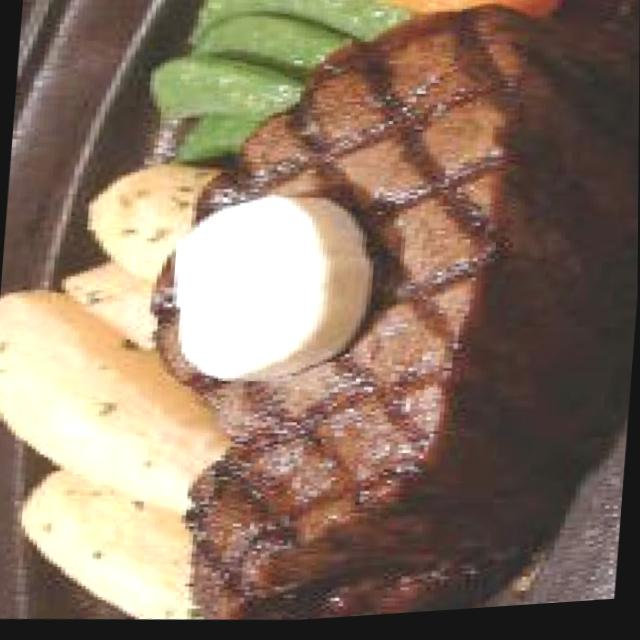牛肉菜式: (116, 0, 640, 634)
